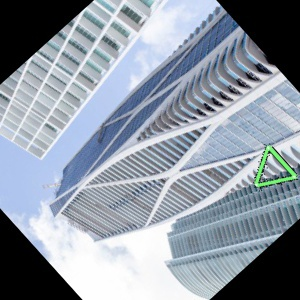triangle: (252, 141, 299, 188)
